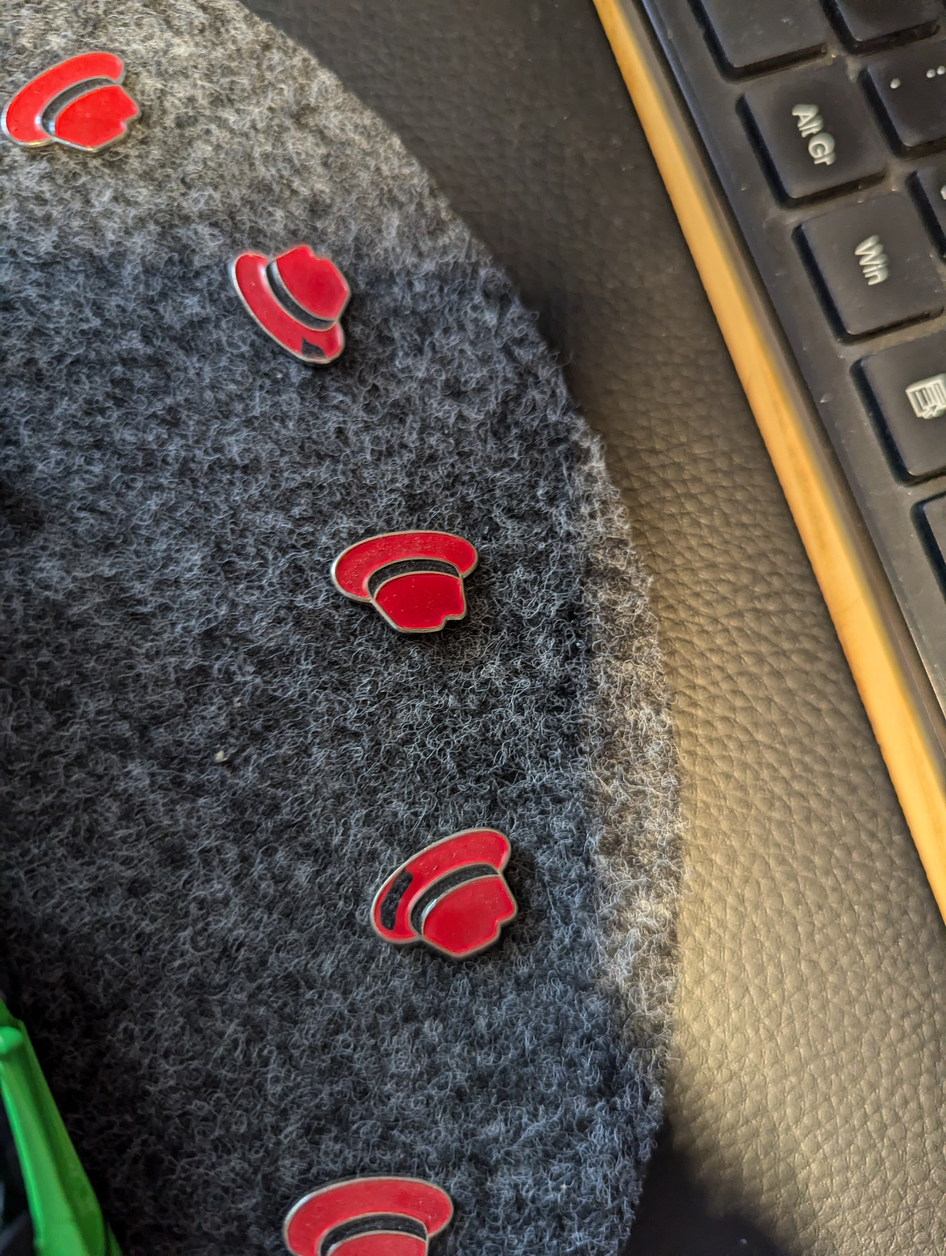Red-Hat: (328, 813, 557, 1019), (297, 499, 503, 659), (0, 25, 169, 195), (253, 1161, 494, 1256), (219, 232, 366, 381)
Scratch: (353, 860, 439, 945), (287, 323, 355, 367)
